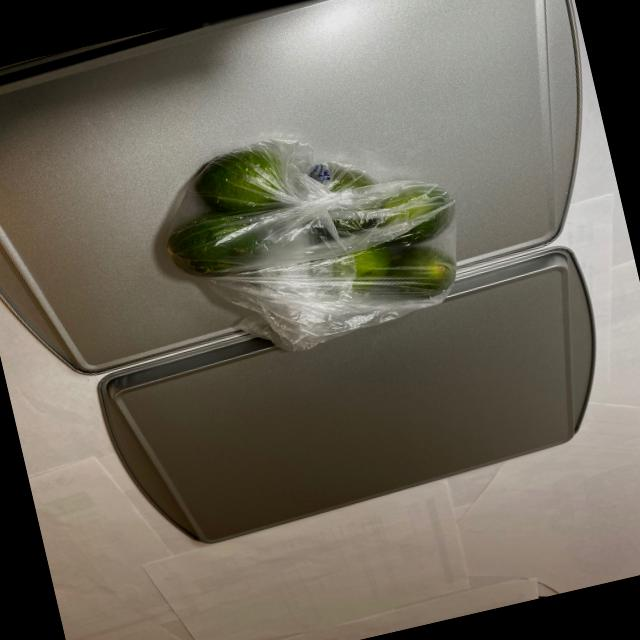lemon: (152, 108, 476, 364)
